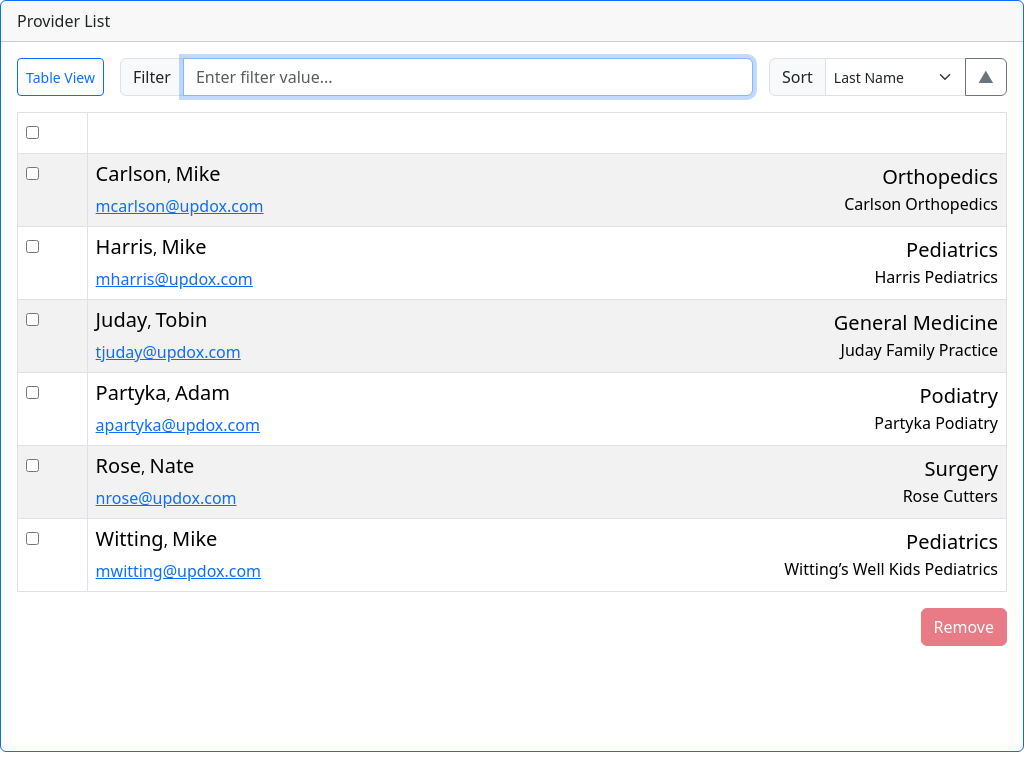
Test: ProviderList › enables Remove Selected button when at least one row is selected
The width and height of the screenshot is (1024, 768).
Click the checkbox with test id "select-row-0" at [32, 246], box [26,240,39,253]
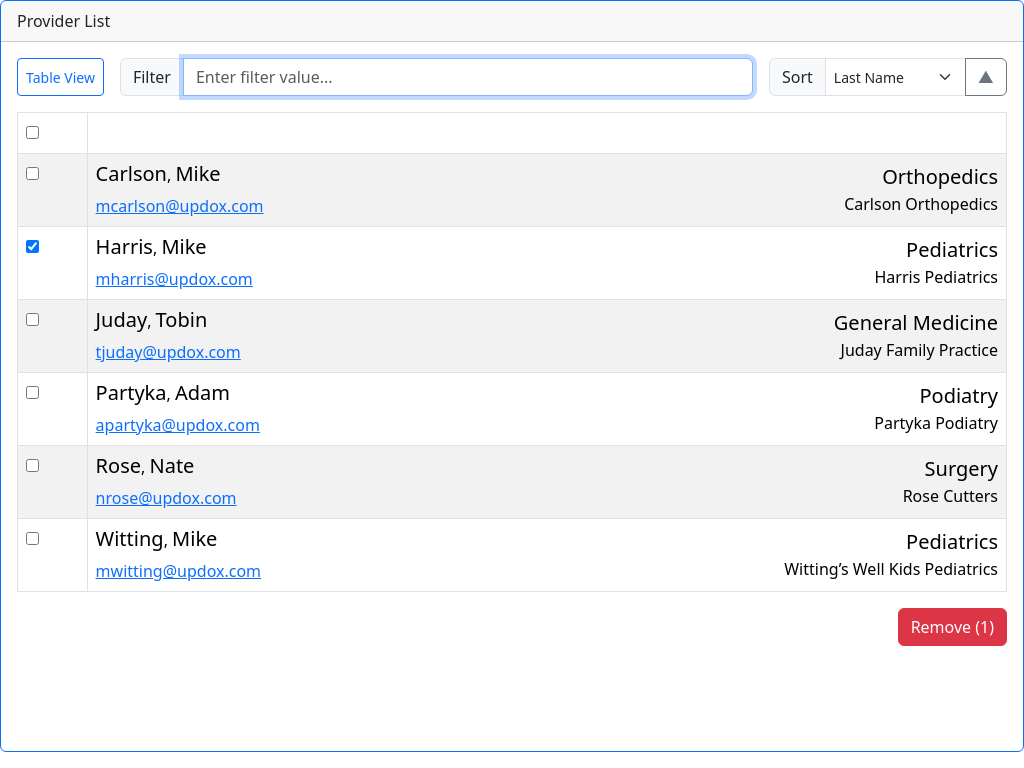
Check: the button with test id "remove-btn" is enabled, box [898,608,1007,646]
